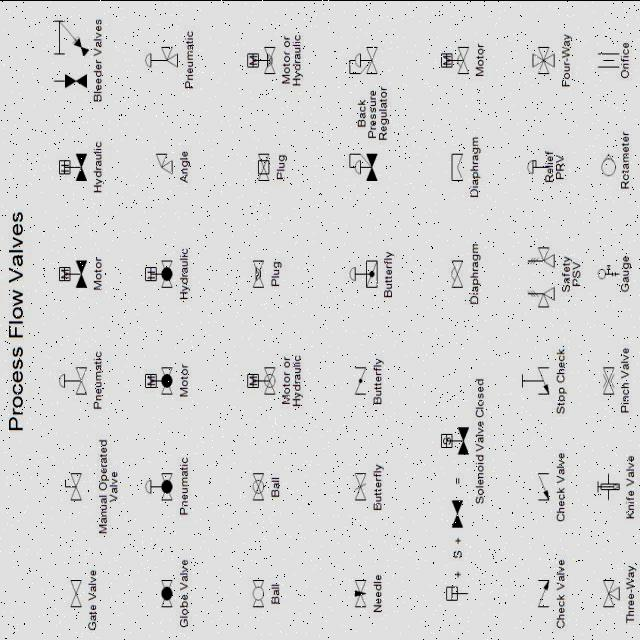3 Way Gate Valve: (595, 571, 622, 615)
4 Way Gate Valve: (527, 32, 560, 82)
Angle Valve: (149, 146, 175, 182)
BackPressure Regulator: (344, 149, 382, 194)
Ball Valve: (240, 568, 270, 616), (247, 458, 267, 507)
Bleeder Valve: (47, 12, 90, 65), (50, 66, 93, 98)
Butterfly Valve: (351, 354, 372, 405), (346, 462, 369, 504)
Check Valve: (530, 458, 553, 516), (532, 568, 556, 613)
Closed Gate Valve: (450, 497, 464, 531)
Cock Valve: (55, 454, 94, 511)
Diaphragm Valve: (447, 250, 467, 294), (446, 147, 465, 188)
Gate Valve: (66, 571, 84, 613)
Gauge: (593, 250, 623, 292)
Globe Valve: (155, 566, 179, 614)
Hydraulic Closed Valve: (52, 140, 92, 196)
Hydraulic Operated Ball Valve: (237, 350, 280, 410)
Hydraulic Operated Globe Valve: (142, 248, 174, 300)
Knife Valve: (592, 458, 622, 506)
Motor Operated Diaphragm Valve: (436, 40, 470, 80)
Motor Operated Globe Valve: (144, 355, 180, 407)
Motor Operated Plug Valve: (241, 34, 280, 80)
Motor closed Gate Valve: (53, 248, 95, 300)
Needle Valve: (346, 570, 372, 612)
Orifice: (591, 40, 620, 77)
PSV: (522, 280, 558, 314), (524, 240, 558, 273)
Pinch Valve: (593, 358, 620, 406)
Plug Valve: (246, 247, 270, 293), (256, 142, 272, 188)
Pneumatic-Diaphragm Angle Valve: (137, 32, 183, 90)
Pneumatic-Diaphragm Butterfly Valve: (346, 254, 379, 296)
Pneumatic-Diaphragm Gate Valve: (52, 358, 92, 404)
Pneumatic-Diaphragm Globe Valve: (139, 461, 178, 509)
Pressure Regulator: (342, 36, 384, 87)
Relief Valve: (518, 148, 546, 181)
Rotameter: (596, 142, 618, 180)
Solenoid Closed Valve: (434, 420, 469, 460)
Stop Valve: (512, 352, 554, 412)
